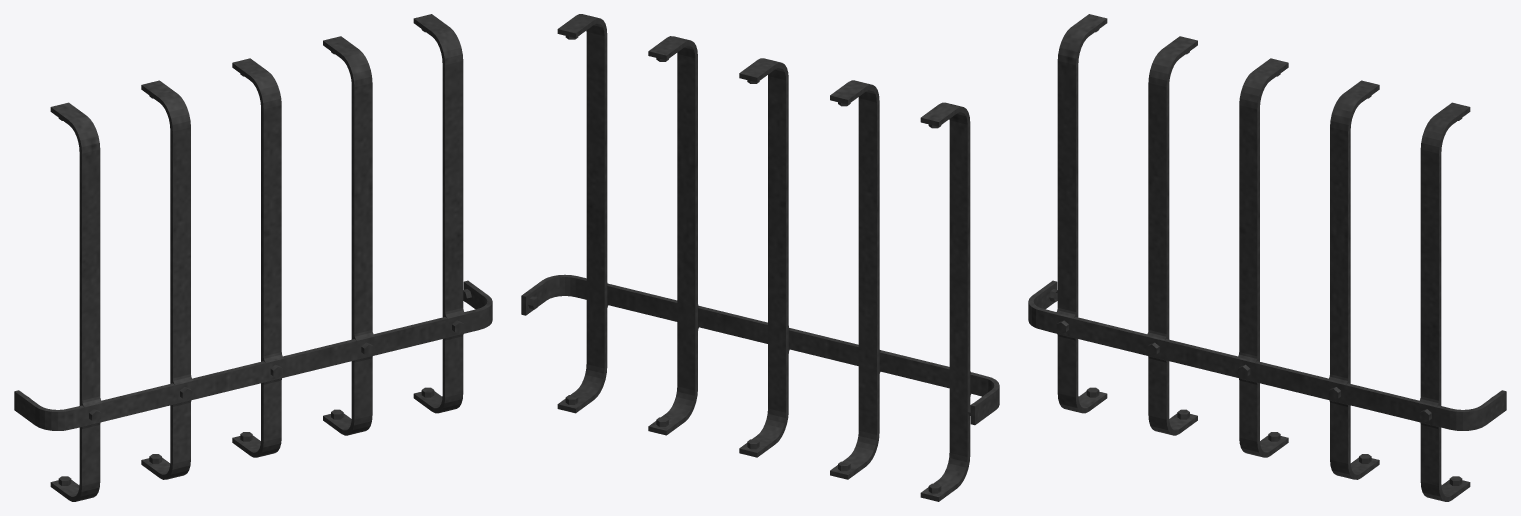
File: metal_bars_single.fbx
3 views of the same model, side by side, from view 1: azimuth 30°, elevation 25°; view 2: azimuth 150°, elevation 25°; view 3: azimuth 330°, elevation 25° (orthographic).
Visible parts, largest first — view 1: metal_bars_single; view 2: metal_bars_single; view 3: metal_bars_single.
Boxes of the visible parts, x1,y1,x2,y2 form: metal_bars_single: (14,14,492,501); metal_bars_single: (521,14,999,501); metal_bars_single: (1028,14,1506,501).
Bounding box in the file's own units: 100 × 80 × 14.1.
